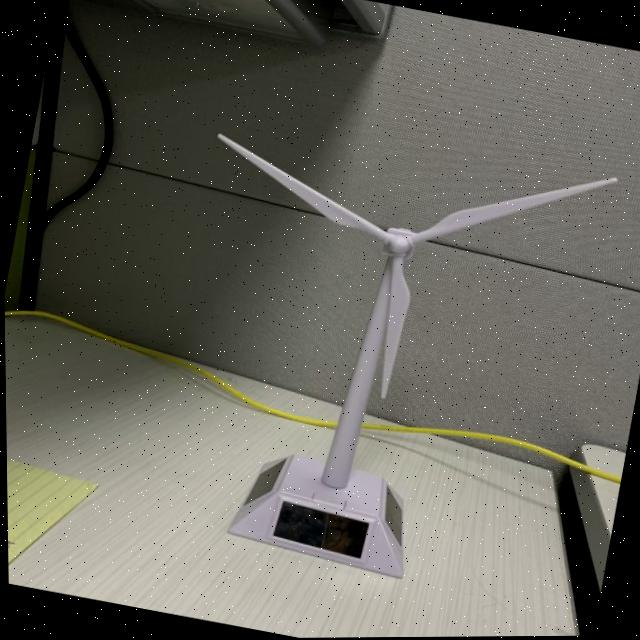solid-blade: (216, 134, 384, 241), (412, 180, 616, 242), (379, 258, 409, 398)
